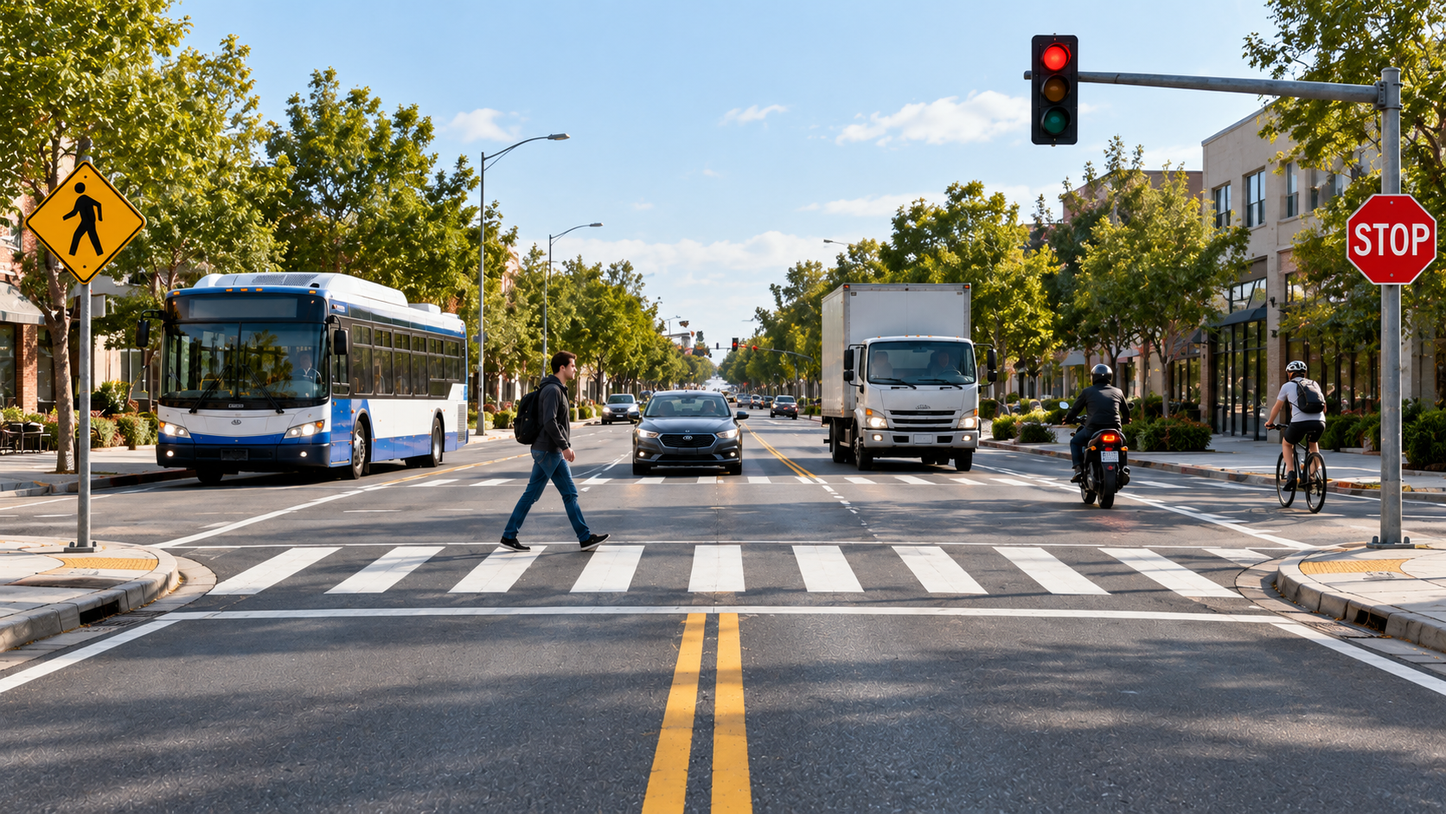bicycle: (1257, 409, 1337, 516)
bus: (132, 272, 464, 478)
car: (625, 375, 752, 478)
crossing_warning_sign: (26, 163, 144, 282)
motorcycle: (1051, 392, 1144, 526)
person: (497, 348, 612, 550), (1066, 364, 1145, 506), (1260, 363, 1332, 509)
stop_sign: (1347, 197, 1441, 286)
traffic_light: (1023, 33, 1093, 143)
truck: (817, 281, 989, 478)
zebra_crossing: (0, 510, 1446, 604)
